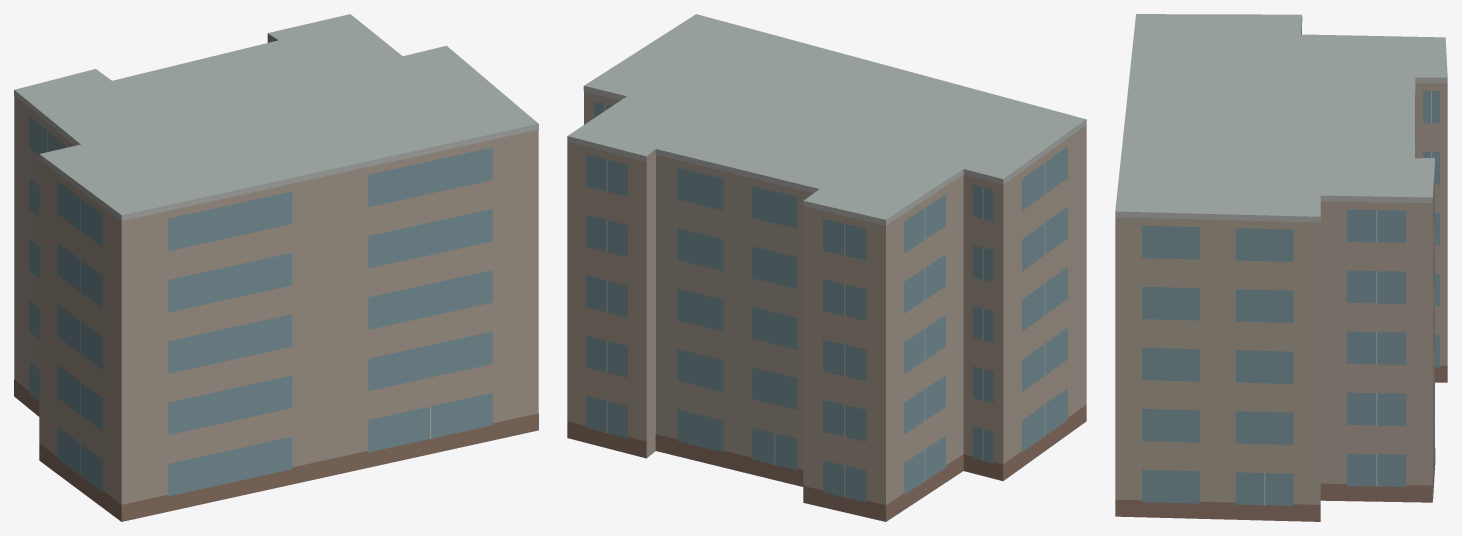
Rendered from survey-upis-32874737.glb.
The picture shows the model from 3 angles, left to right: view 1: azimuth 30°, elevation 25°; view 2: azimuth 150°, elevation 25°; view 3: azimuth 270°, elevation 25°; orthographic projection.
Parts seen in each view (by area): view 1: survey-upis-32874737.tmp; view 2: survey-upis-32874737.tmp; view 3: survey-upis-32874737.tmp.
Boxes of the visible parts, bbox=[...] form: survey-upis-32874737.tmp: bbox=[14, 14, 538, 521]; survey-upis-32874737.tmp: bbox=[567, 14, 1086, 521]; survey-upis-32874737.tmp: bbox=[1115, 14, 1447, 521].
Size of the model in its own units: 18.54 by 13 by 12.85.
